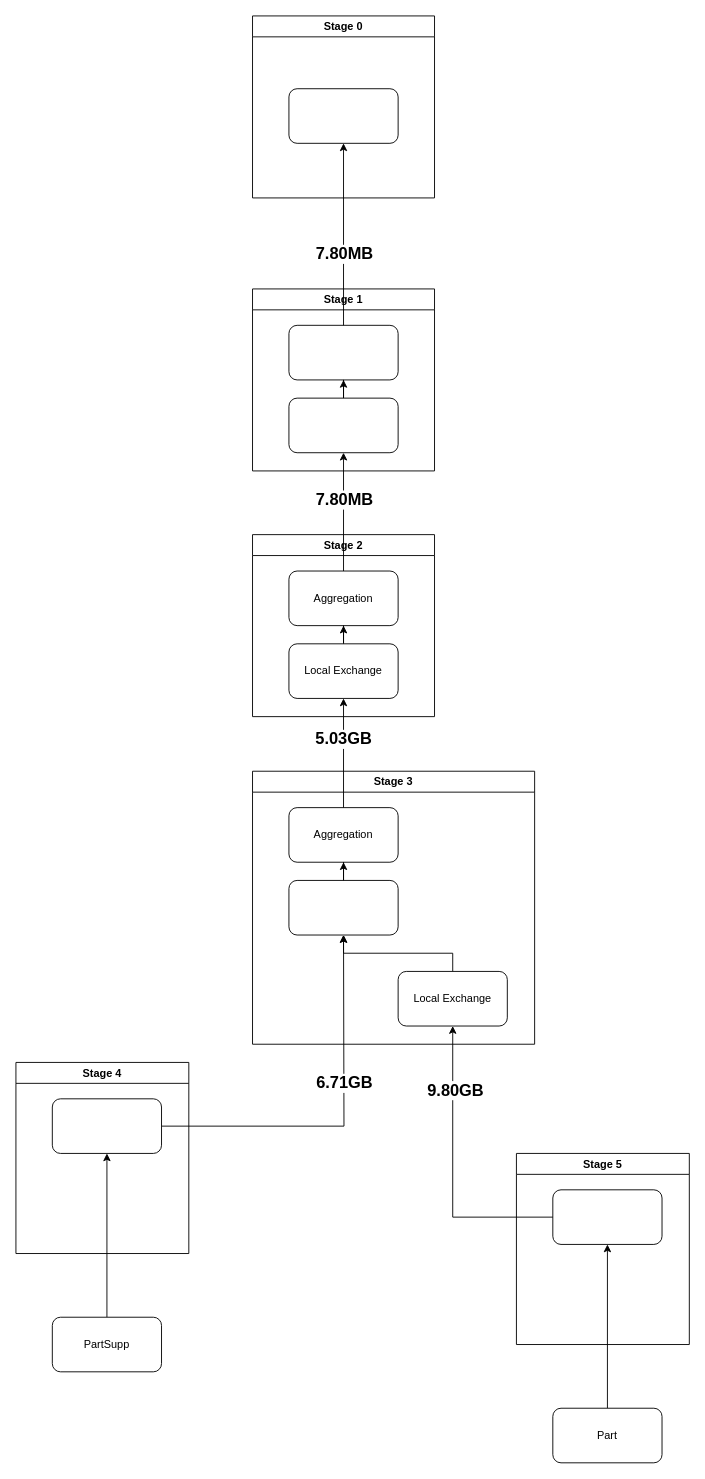
Image size: 705x1479. Some labels were removed from this diagram. Each missing label, with the centre of its shape:
"Inner Join" goes at [343,907].
"Local Merge" goes at [343,352].
"Output" goes at [343,115].
"Partial Sort" goes at [343,425].
"Scan Filter" goes at [106,1125].
"Table Scan" goes at [607,1216].
